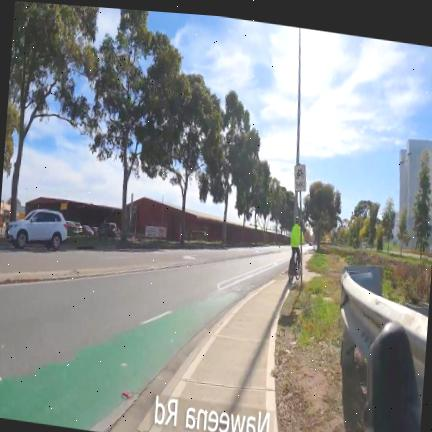Green_Bike_Lane: (0, 291, 237, 430)
